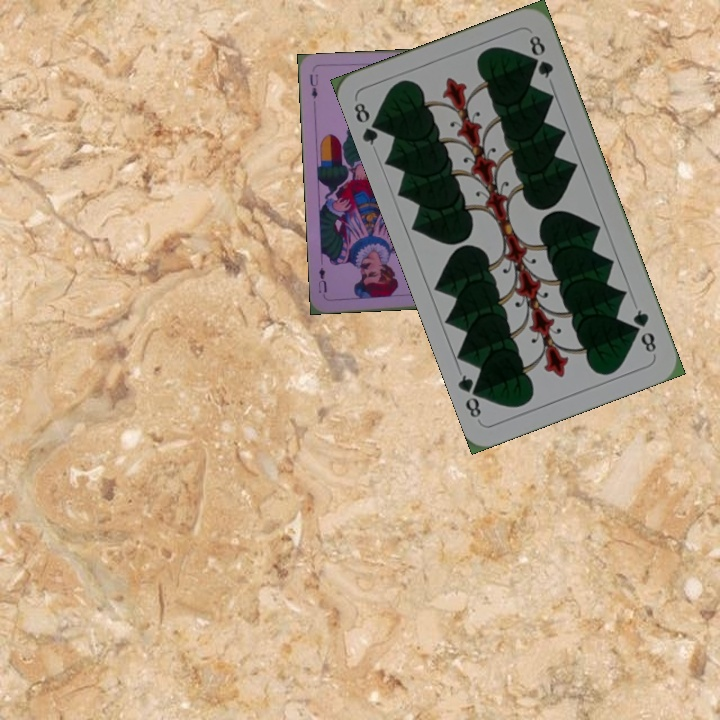EU: (306, 70, 321, 101)
G8: (349, 98, 386, 148), (629, 305, 659, 356)
